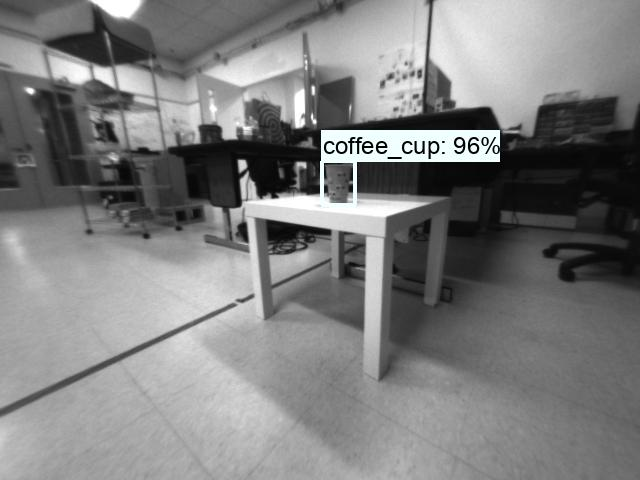coffee_cup: (322, 163, 353, 204)
